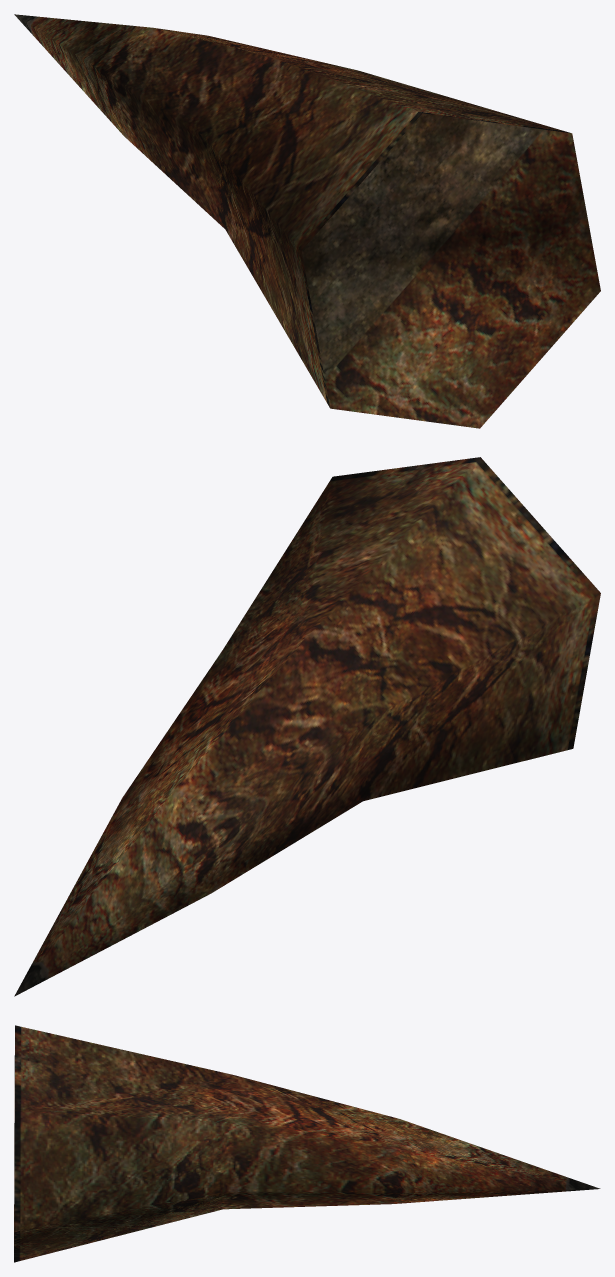
Rendered from stalactite_04.obj.
3 views of the same model, one above another, from view 1: azimuth 30°, elevation 25°; view 2: azimuth 150°, elevation 25°; view 3: azimuth 270°, elevation 25° (orthographic). The views are drawn at different scales.
Parts seen in each view (by area): view 1: (null); view 2: (null); view 3: (null).
Boxes of the visible parts, bbox=[...] form: (null): bbox=[14, 14, 600, 428]; (null): bbox=[14, 457, 600, 996]; (null): bbox=[14, 1025, 600, 1262].
Size of the model in its own units: 3.05 by 3.2 by 7.78.
